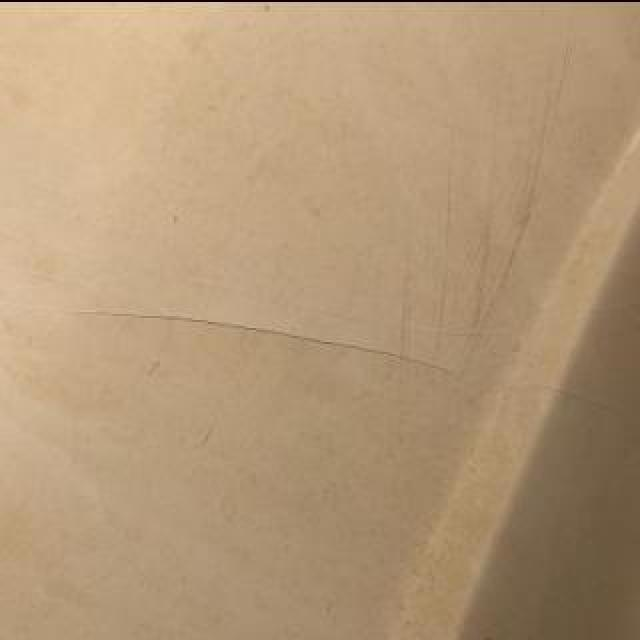crack: (59, 305, 467, 377)
